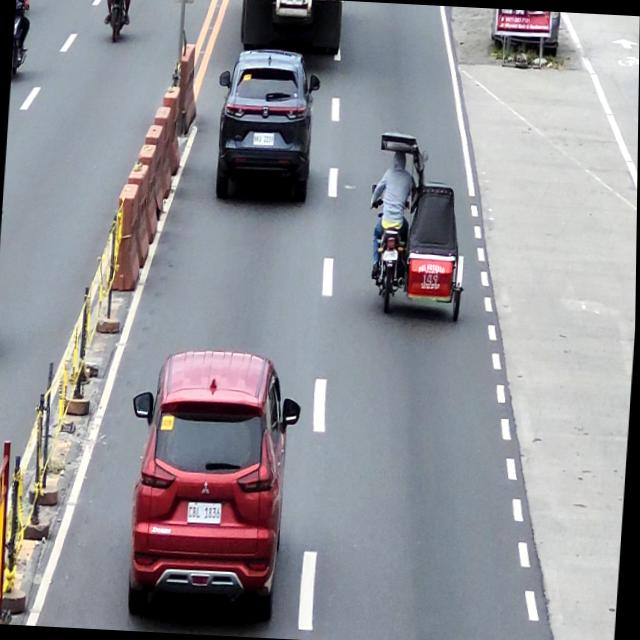Car: (120, 348, 305, 623), (212, 46, 323, 208)
License-Plate: (188, 502, 224, 524), (253, 132, 275, 147), (384, 247, 399, 262)
Motorcycle: (11, 0, 33, 83), (104, 0, 129, 45)
Tricycle: (365, 130, 475, 321)
